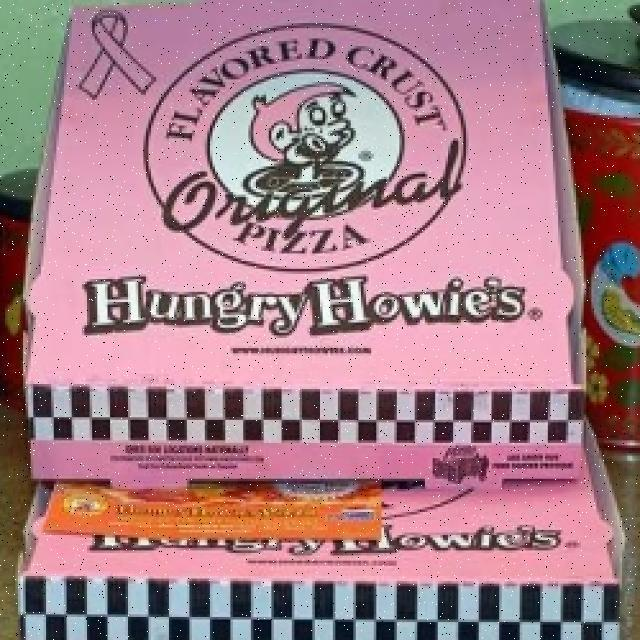box: (26, 0, 584, 474), (12, 455, 627, 640)
